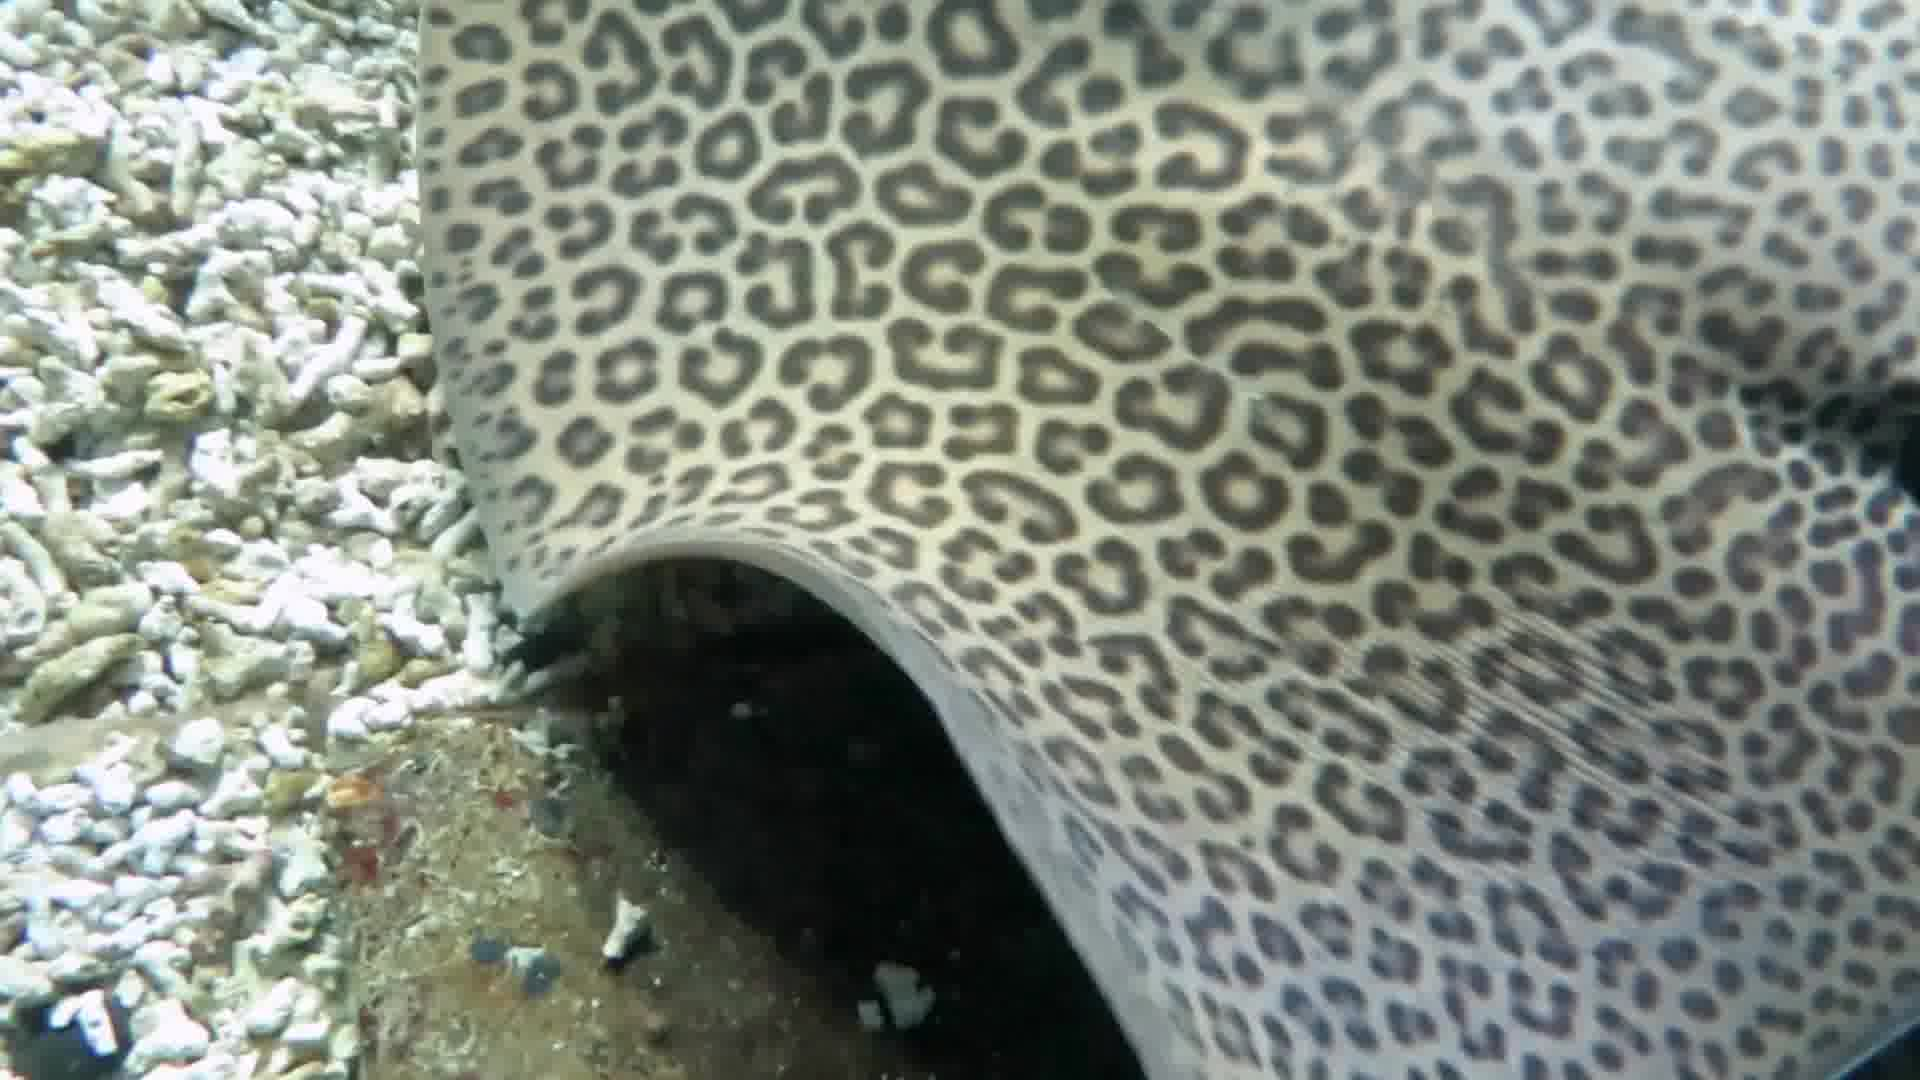Himantura uarnak: (409, 1, 1920, 1048)
